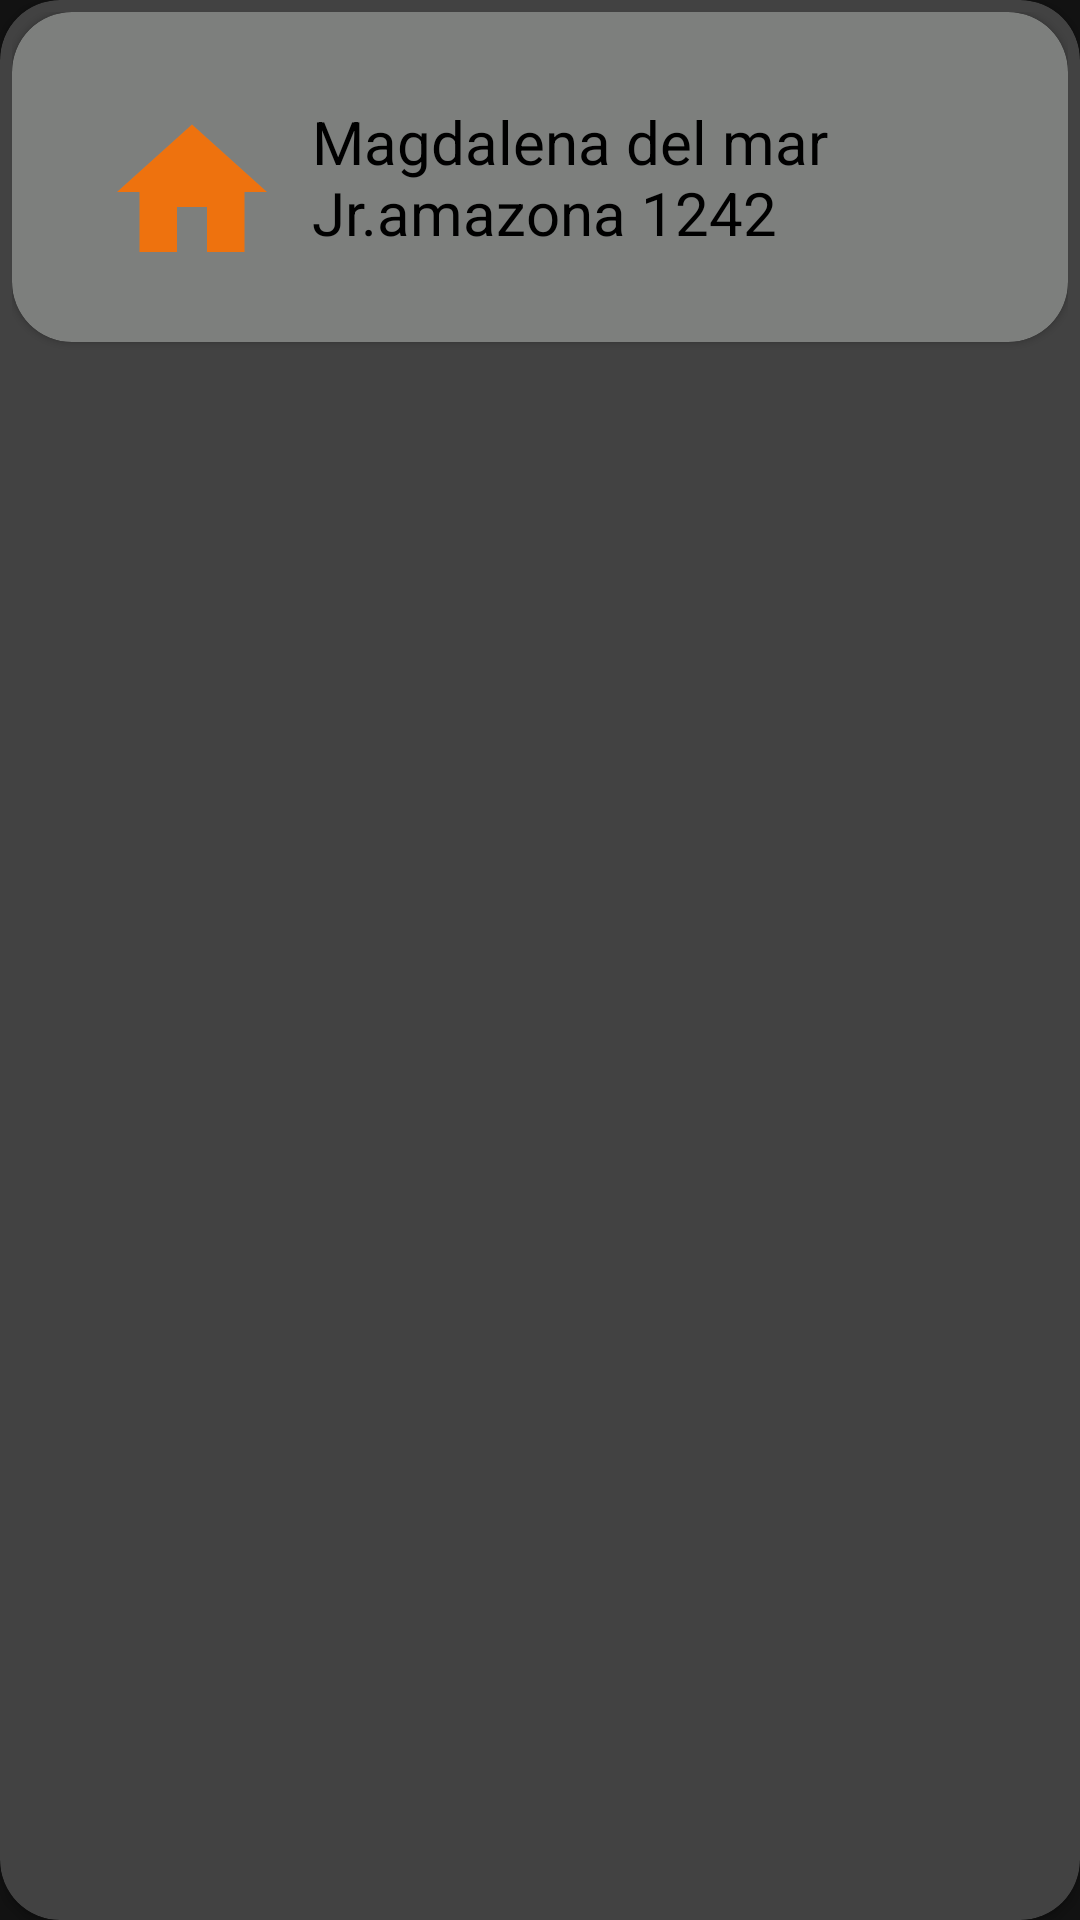

Screen size 1080*1920. Icon name, then its box in pixels as (x1, y1, x2, y2):
home: (117, 125, 267, 252)
